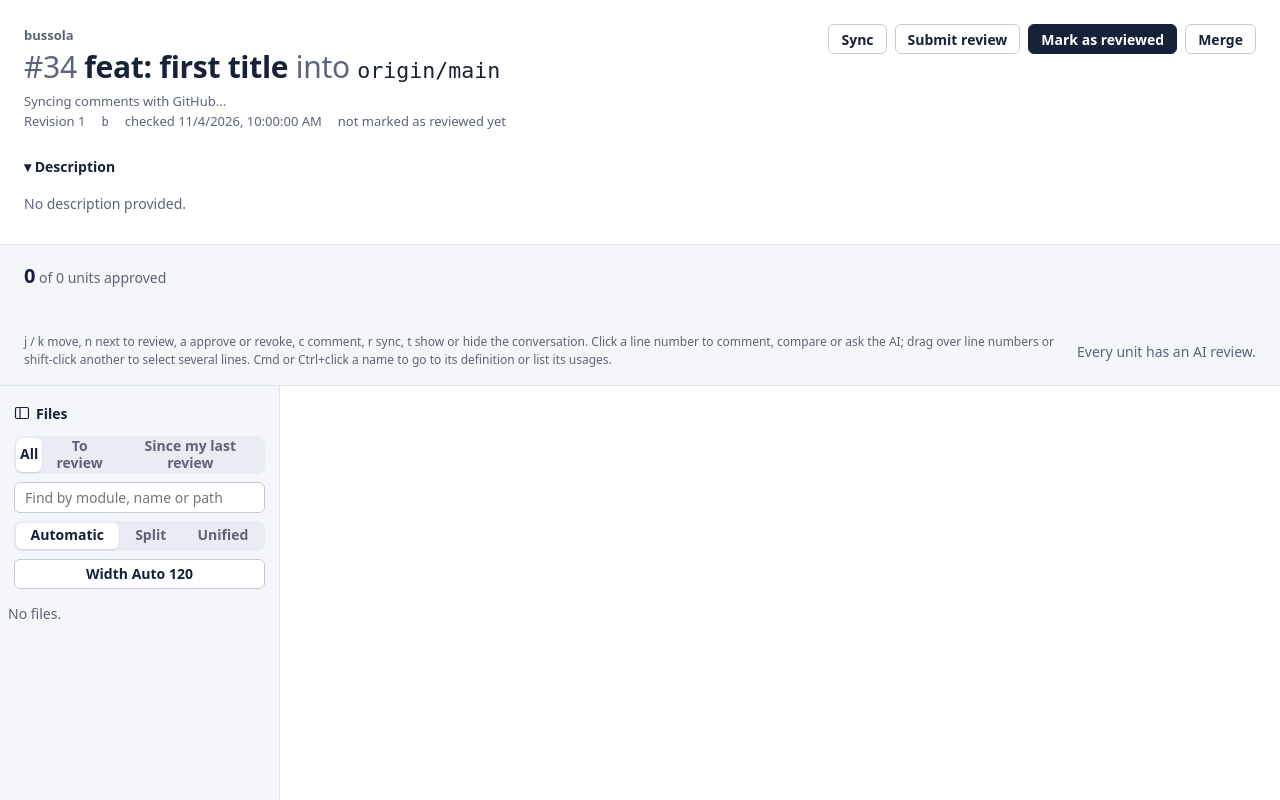
Test: ReviewPage submit review › does not mark as reviewed when the sync fails
The width and height of the screenshot is (1280, 800).
Click the button "Submit review" at (958, 39), box [895,24,1020,54]
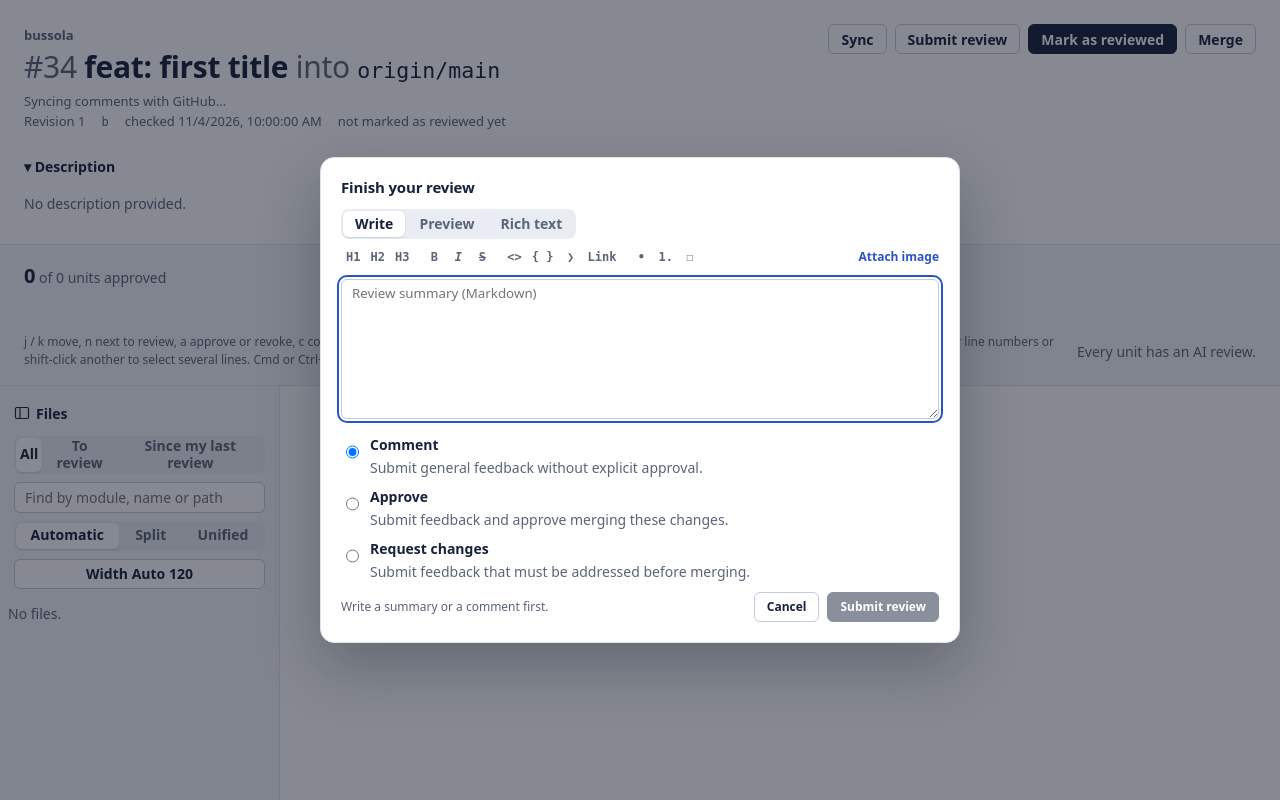
Type "Looks good" into the text box labelled "Review summary (Markdown)" at (640, 349), box [341,279,939,419]
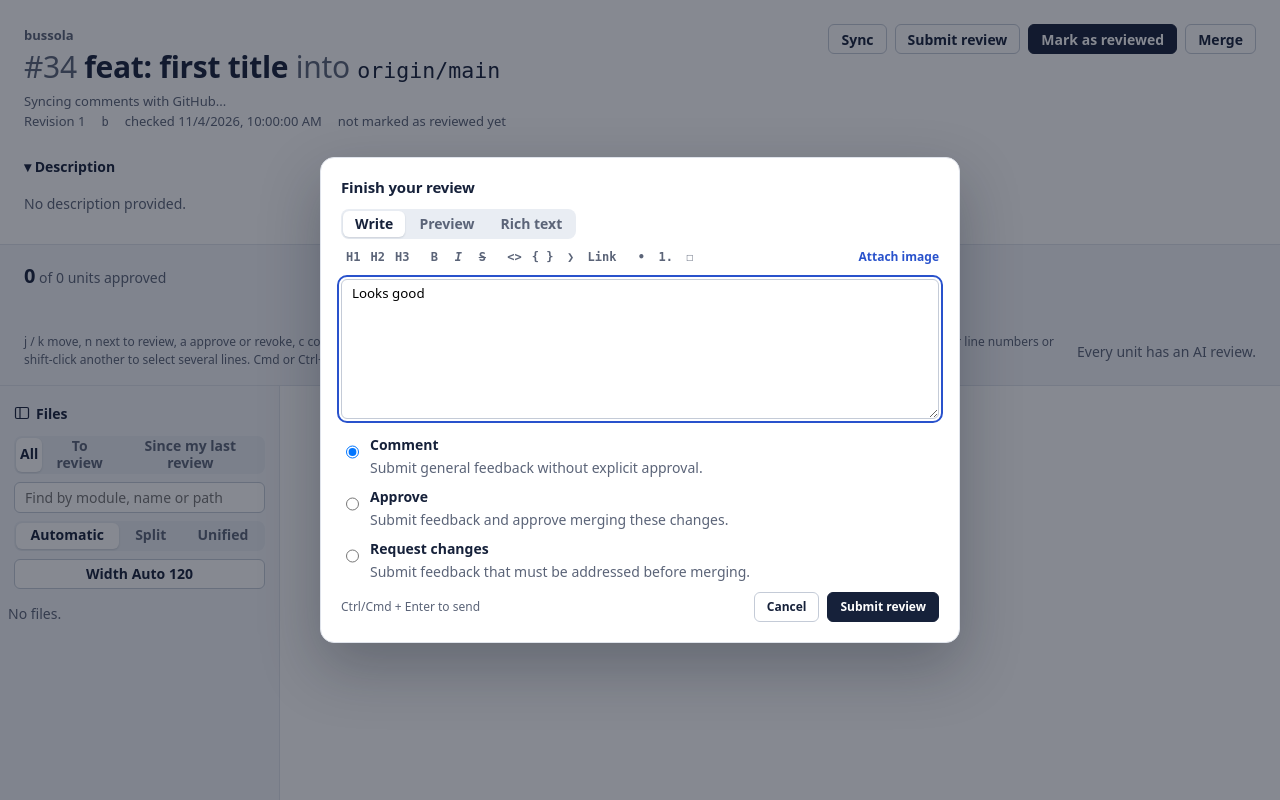
Click the button "Submit review" in the row of "Ctrl/Cmd + Enter to send" at (883, 607), box [828,592,939,622]
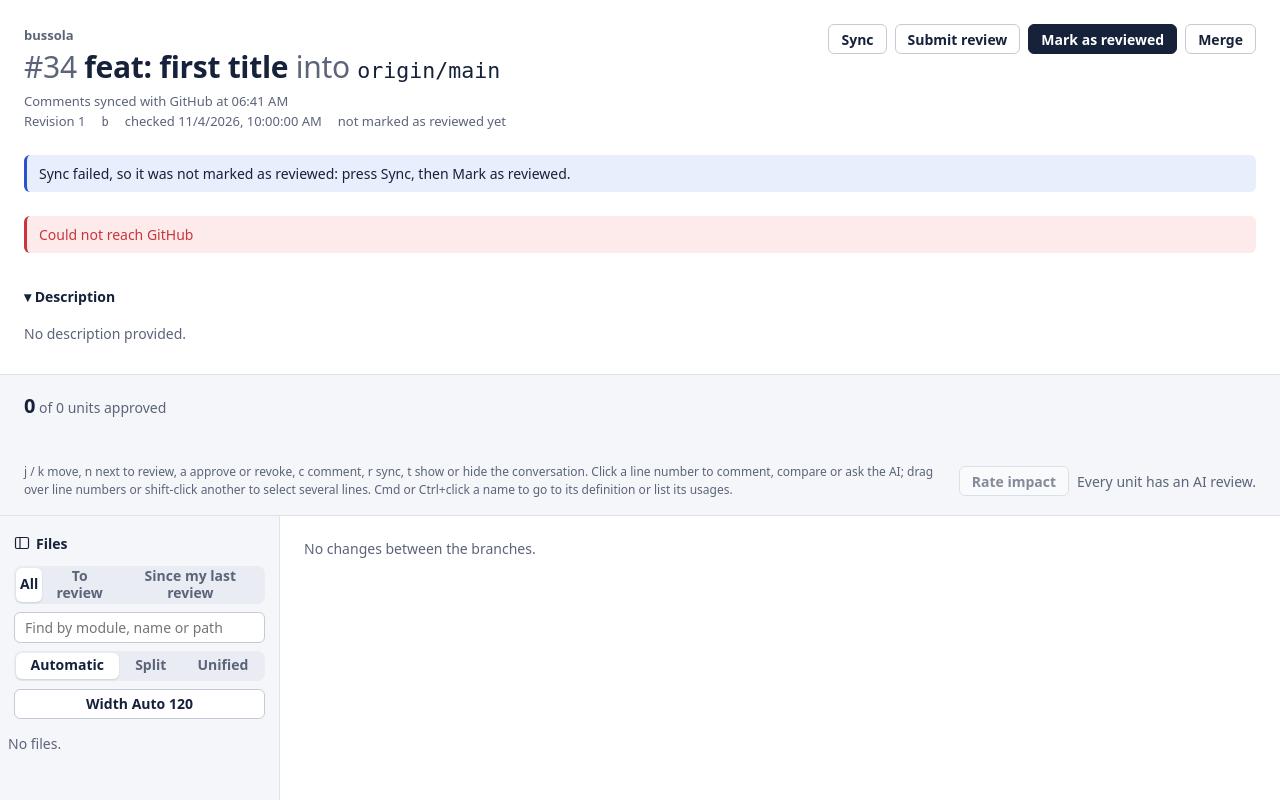
Expected: the text "Sync failed, so it was not marked as reviewed" is shown, [39,164,571,183]
Expected: the text "Could not reach GitHub" is shown, [24,216,1256,253]
